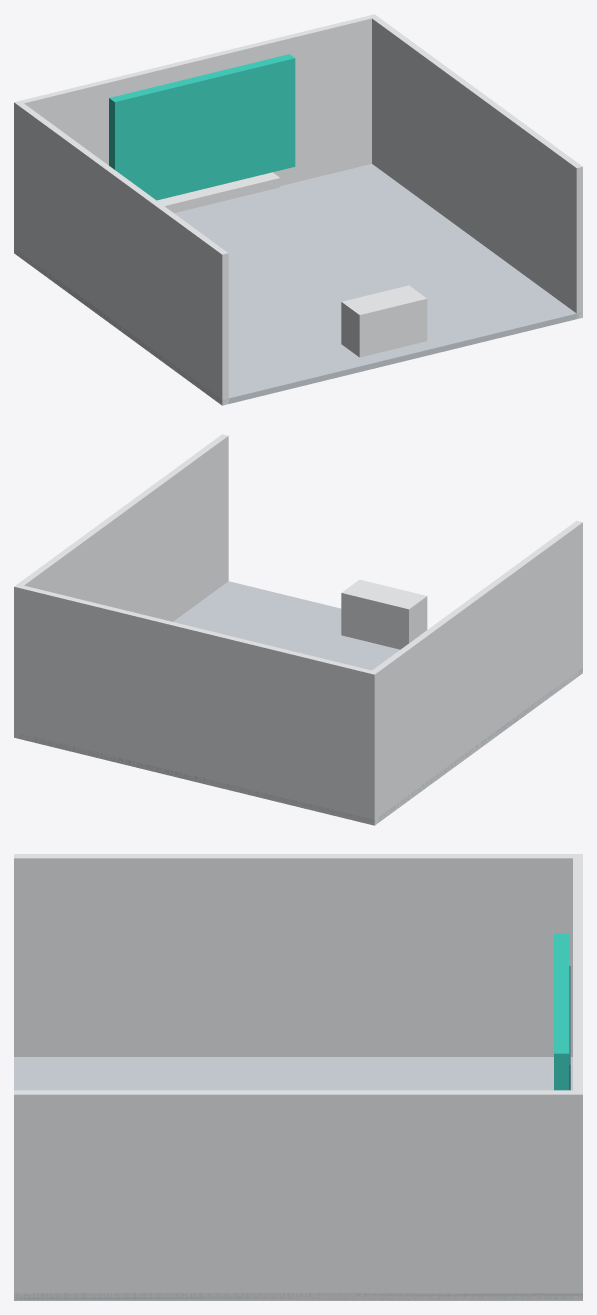
3 renders of one model, top to bottom at view 1: azimuth 30°, elevation 25°; view 2: azimuth 150°, elevation 25°; view 3: azimuth 270°, elevation 25°, orthographic. The views are drawn at different scales.
Visible parts, largest first — view 1: Exhibition Booth Concept; view 2: Exhibition Booth Concept; view 3: Exhibition Booth Concept.
Boxes of the visible parts, x1=… form: Exhibition Booth Concept: x1=14, y1=14, x2=582, y2=405; Exhibition Booth Concept: x1=14, y1=434, x2=582, y2=825; Exhibition Booth Concept: x1=14, y1=854, x2=582, y2=1300.
Bounding box in the file's own units: 8 × 3.2 × 8.
